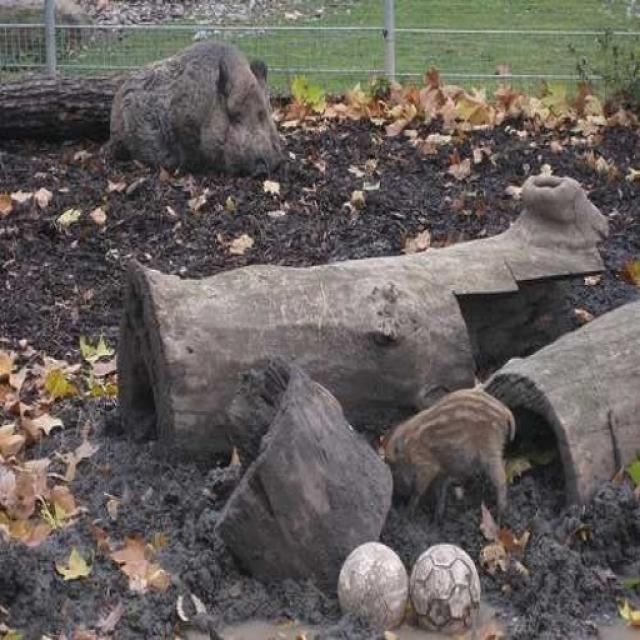pig: (93, 44, 306, 181), (377, 388, 541, 509)
